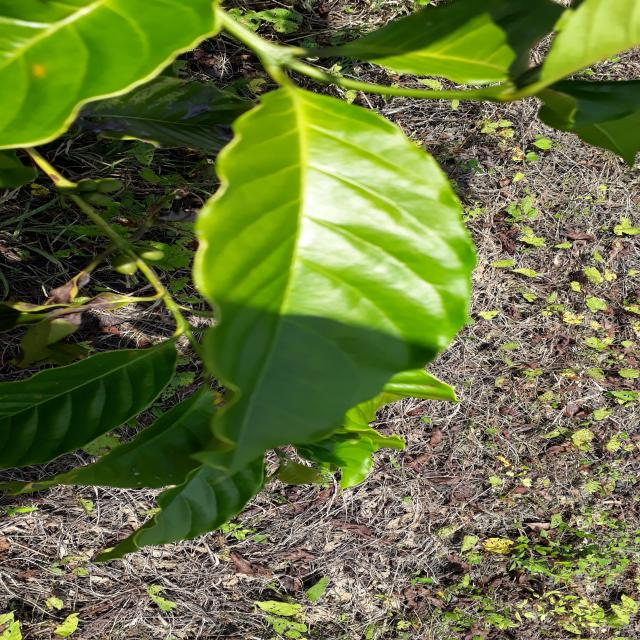Sanas: (192, 87, 476, 497)
